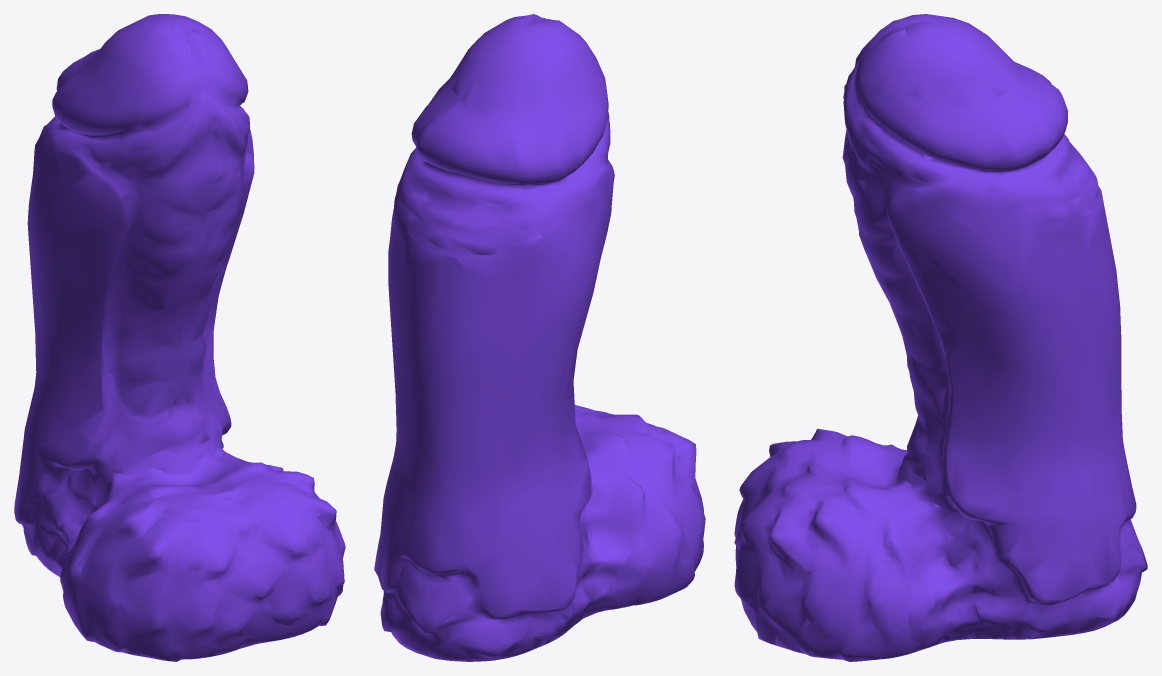
Rendered from large-suction-ar.glb.
3 views of the same model, side by side, from view 1: azimuth 30°, elevation 25°; view 2: azimuth 150°, elevation 25°; view 3: azimuth 270°, elevation 25° (orthographic). The views are drawn at different scales.
Size of the model in its own units: 0.1366 by 0.2904 by 0.1871.
